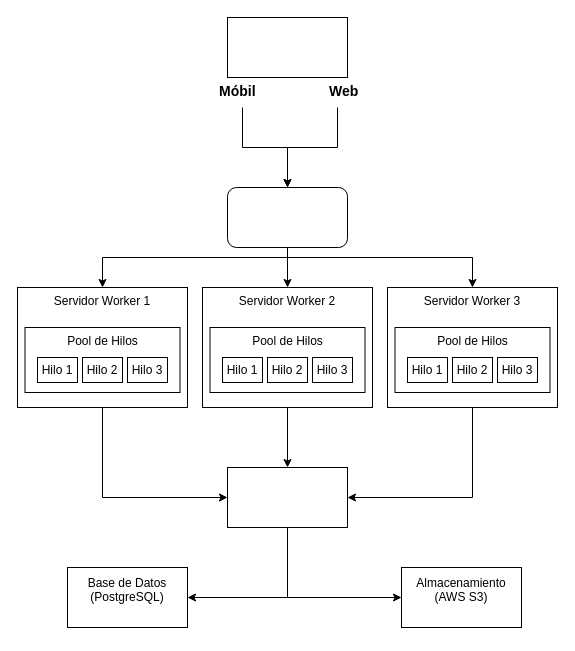
Some shapes in this 575 by 651 pixel diagram are drawn without their labels. The centre of each missing label's shape, as x and y in pixels:
"Balanceador de Carga (Nginx / HAProxy)" goes at (x=287, y=217).
"Clientes" goes at (x=287, y=47).
"Cola de Mensajes (RabbitMQ)" goes at (x=287, y=497).
